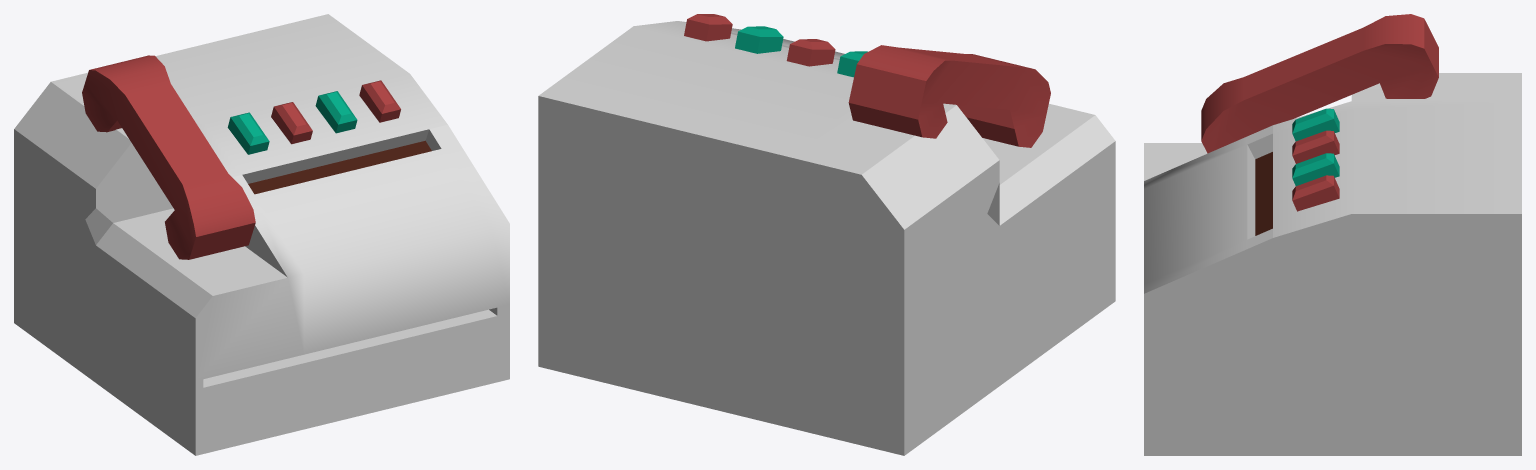
The model's file is phone.fbx.
The picture shows the model from 3 angles, left to right: view 1: azimuth 30°, elevation 25°; view 2: azimuth 150°, elevation 25°; view 3: azimuth 270°, elevation 25°; orthographic projection. The views are drawn at different scales.
Parts seen in each view (by area): view 1: Phone; view 2: Phone; view 3: Phone.
Part boxes in pixels (<box>): Phone: <box>14,14,509,455</box>; Phone: <box>538,14,1115,455</box>; Phone: <box>1144,14,1521,455</box>.
Bounding box in the file's own units: 5.72 × 4.96 × 5.72.
